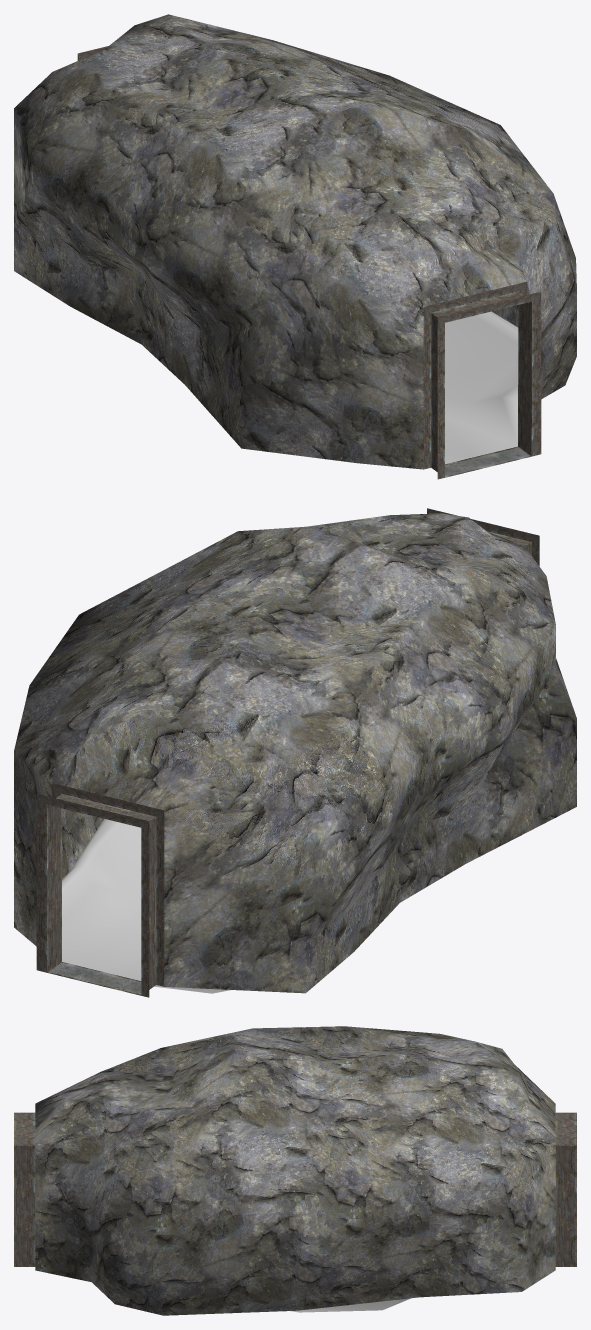
The model's file is RockyTunnel_unque1.FBX.
3 renders of one model, top to bottom at view 1: azimuth 30°, elevation 25°; view 2: azimuth 150°, elevation 25°; view 3: azimuth 270°, elevation 25°, orthographic. The views are drawn at different scales.
Parts seen in each view (by area): view 1: Object41; view 2: Object41; view 3: Object41.
Part boxes in pixels (<box>): Object41: <box>14,14,576,479</box>; Object41: <box>14,508,576,997</box>; Object41: <box>14,1026,576,1315</box>.
Size of the model in its own units: 912 by 673 by 1500.
